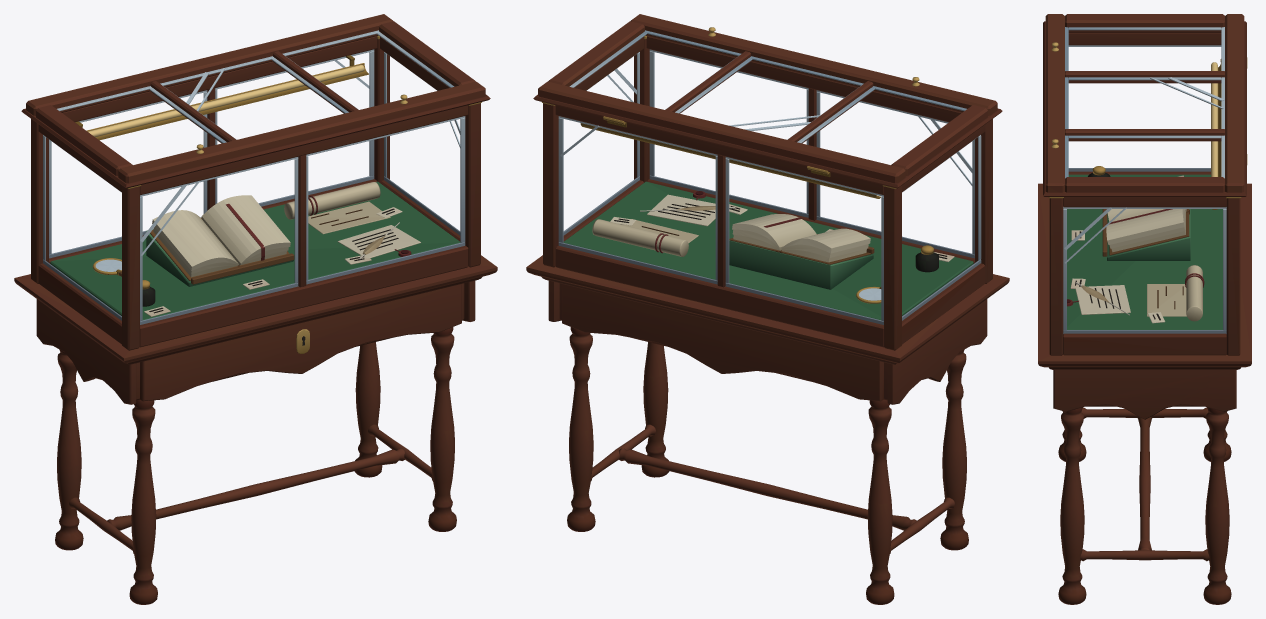
The model's file is display-case.glb.
The picture shows the model from 3 angles, left to right: view 1: azimuth 30°, elevation 25°; view 2: azimuth 150°, elevation 25°; view 3: azimuth 270°, elevation 25°; orthographic projection. The views are drawn at different scales.
Visible parts, largest first — view 1: display_case; view 2: display_case; view 3: display_case.
Boxes of the visible parts, x1,y1,x2,y2 form: display_case: (14, 14, 497, 604); display_case: (526, 14, 1009, 604); display_case: (1038, 14, 1251, 604).
Bounding box in the file's own units: 1.1 × 1.27 × 0.56.
